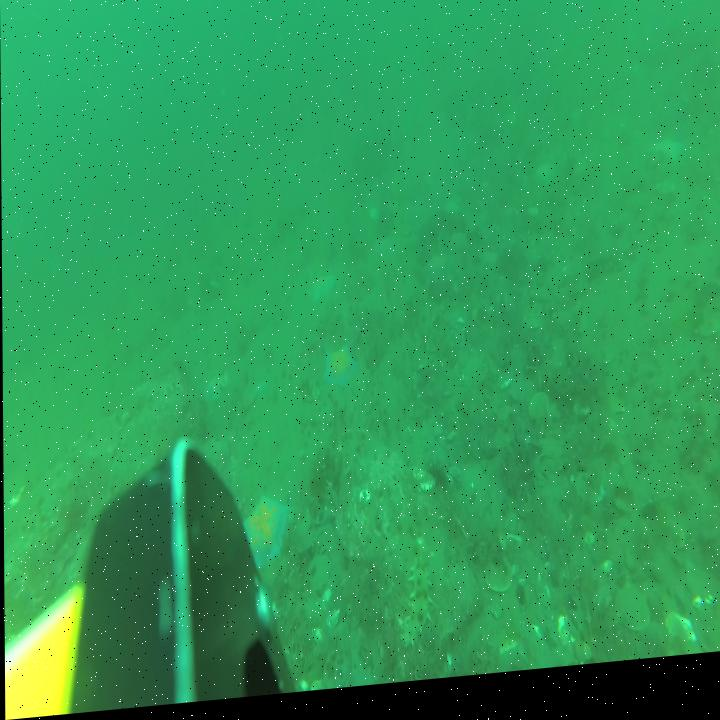echinus: (422, 459, 450, 502)
holothurian: (399, 561, 434, 660), (582, 261, 626, 297)
scallop: (612, 593, 653, 649), (480, 557, 513, 608), (570, 477, 606, 520), (657, 528, 686, 567), (462, 494, 489, 529), (611, 494, 635, 530), (527, 400, 549, 433), (693, 329, 720, 355), (519, 320, 542, 344), (594, 354, 615, 380), (525, 309, 544, 331), (303, 385, 319, 410), (546, 412, 561, 434)
starfish: (238, 496, 292, 581), (320, 346, 360, 401), (650, 144, 687, 181), (306, 279, 337, 315), (202, 377, 230, 410), (534, 170, 557, 202), (426, 259, 447, 293)
